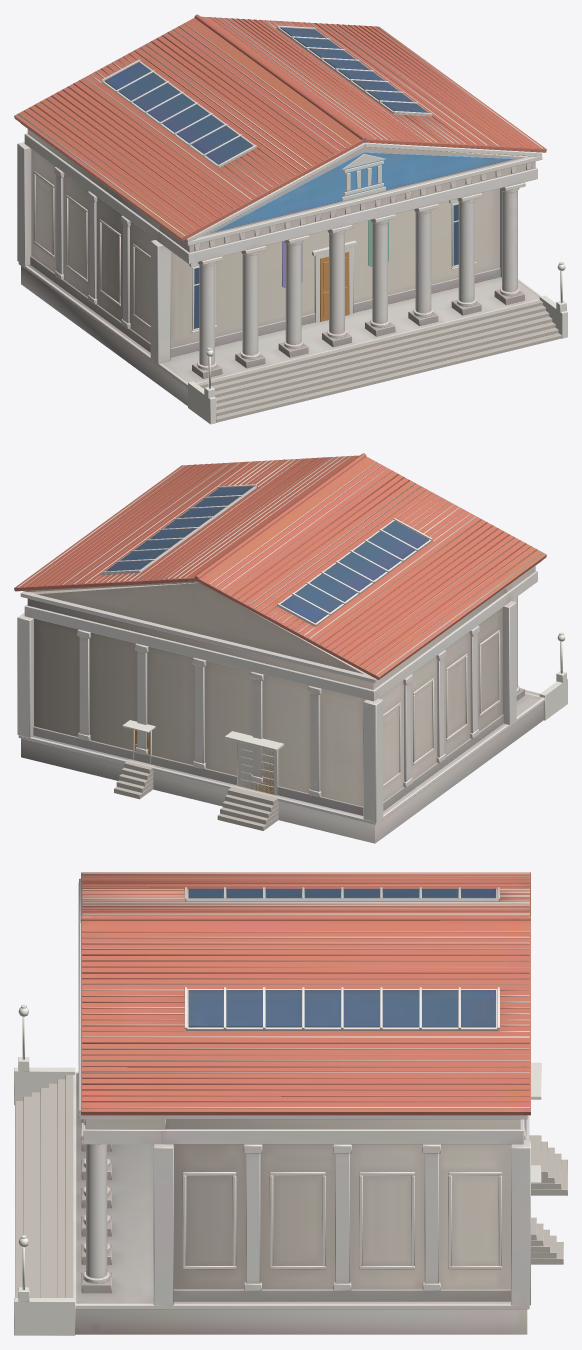
File: museum-4fbfc55e.glb
The picture shows the model from 3 angles, top to bottom: view 1: azimuth 30°, elevation 25°; view 2: azimuth 150°, elevation 25°; view 3: azimuth 270°, elevation 25°; orthographic projection. The views are drawn at different scales.
Parts seen in each view (by area): view 1: museum_body, museum_details; view 2: museum_body, museum_details; view 3: museum_body, museum_details.
Part boxes in pixels (bbox=[...]): museum_body: bbox=[14, 14, 546, 405]; museum_details: bbox=[188, 154, 567, 424]; museum_body: bbox=[14, 453, 546, 843]; museum_details: bbox=[114, 632, 567, 830]; museum_body: bbox=[73, 872, 530, 1334]; museum_details: bbox=[14, 1004, 567, 1335].
Bounding box in the file's own units: 25.35 × 14.95 × 24.8.
Materials: 2 (2 with a texture image).
